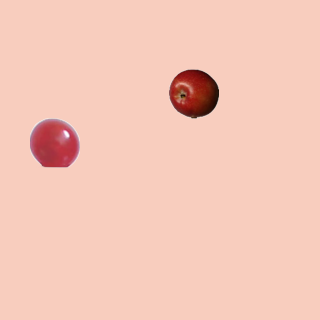Apple Braeburn: (168, 68, 218, 118)
Redcurrant: (29, 117, 79, 167)
